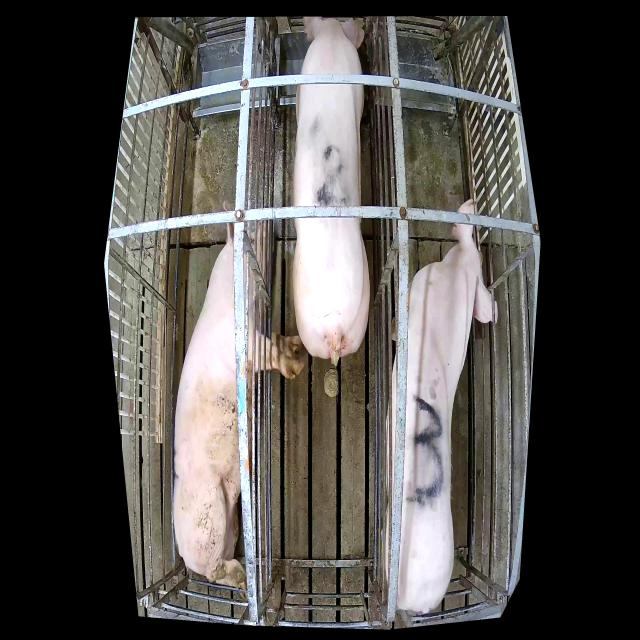pig: (173, 200, 304, 600), (380, 196, 497, 613), (293, 18, 370, 365)
